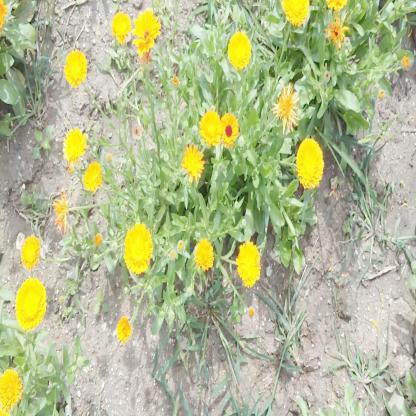marigold: (124, 224, 152, 274), (16, 280, 44, 330), (296, 138, 324, 186), (275, 85, 300, 126), (60, 50, 86, 88), (236, 246, 260, 287), (180, 141, 204, 181), (0, 368, 23, 407), (228, 31, 250, 69), (199, 107, 221, 144), (62, 124, 84, 160), (219, 110, 239, 146), (193, 238, 215, 270), (284, 0, 310, 25), (82, 160, 102, 192), (22, 238, 40, 268)
